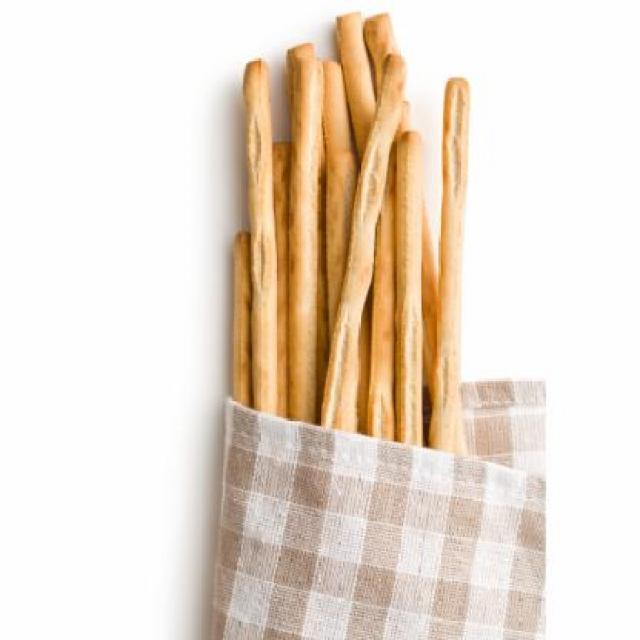Grissini: (228, 11, 482, 451)
